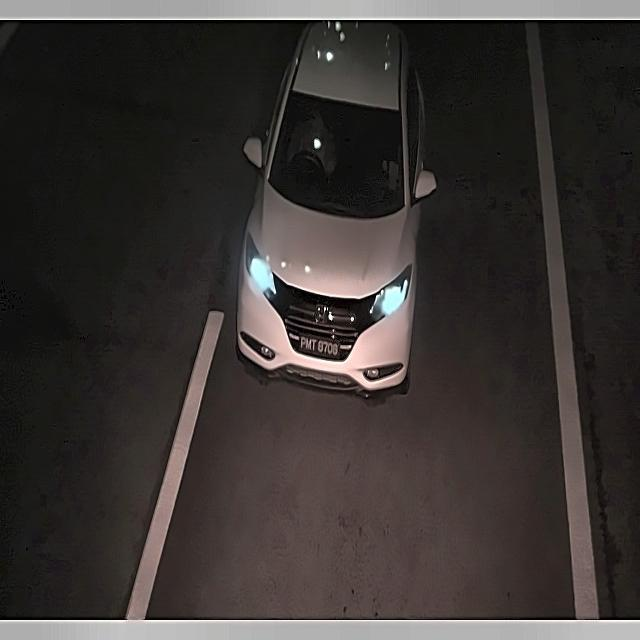car: (296, 330, 342, 367)
